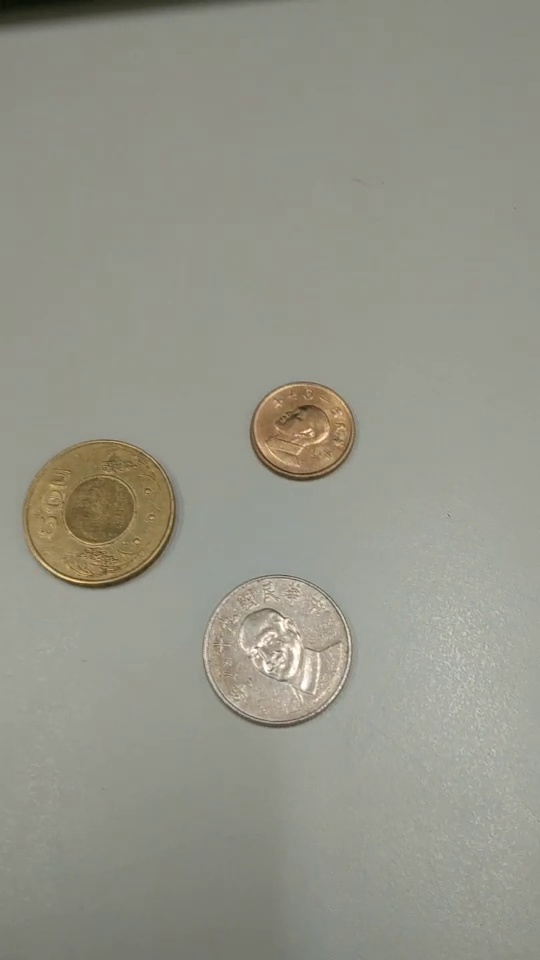NT$ 1: (250, 383, 357, 481)
NT$ 10: (203, 574, 353, 728)
NT$ 50: (24, 442, 179, 590)
